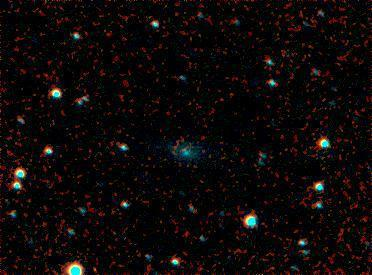star: (77, 253, 107, 275)
